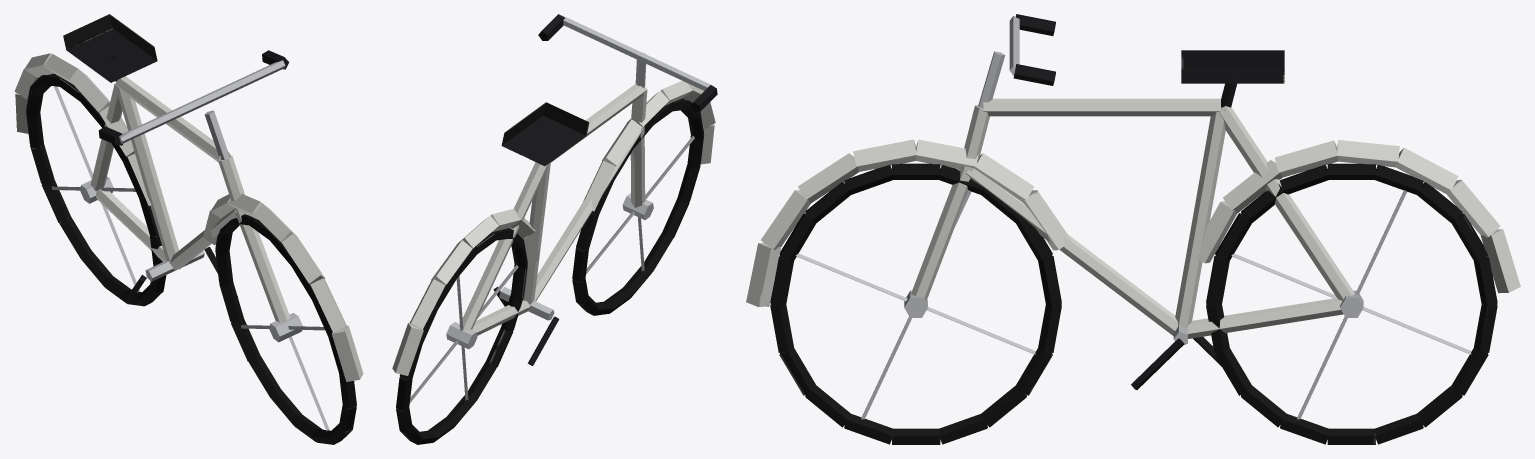
File: kolo_2dbcdd4c.glb
The picture shows the model from 3 angles, left to right: view 1: azimuth 30°, elevation 25°; view 2: azimuth 150°, elevation 25°; view 3: azimuth 270°, elevation 25°; orthographic projection. The views are drawn at different scales.
Parts seen in each view (by area): view 1: dum; view 2: dum; view 3: dum.
Part boxes in pixels (x1,y1,x2,y2): dum: (14,14,363,444); dum: (392,14,717,444); dum: (746,14,1520,444).
Bounding box in the file's own units: 0.5867 × 1.09 × 1.95.
Materials: 1 (1 with a texture image).
